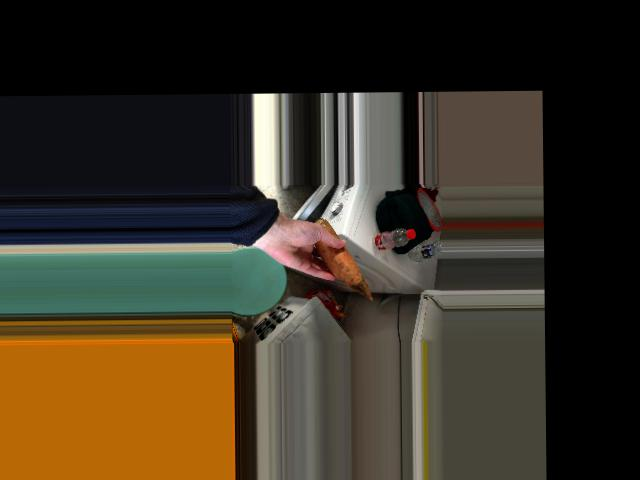sweet_potato: (306, 221, 352, 273)
